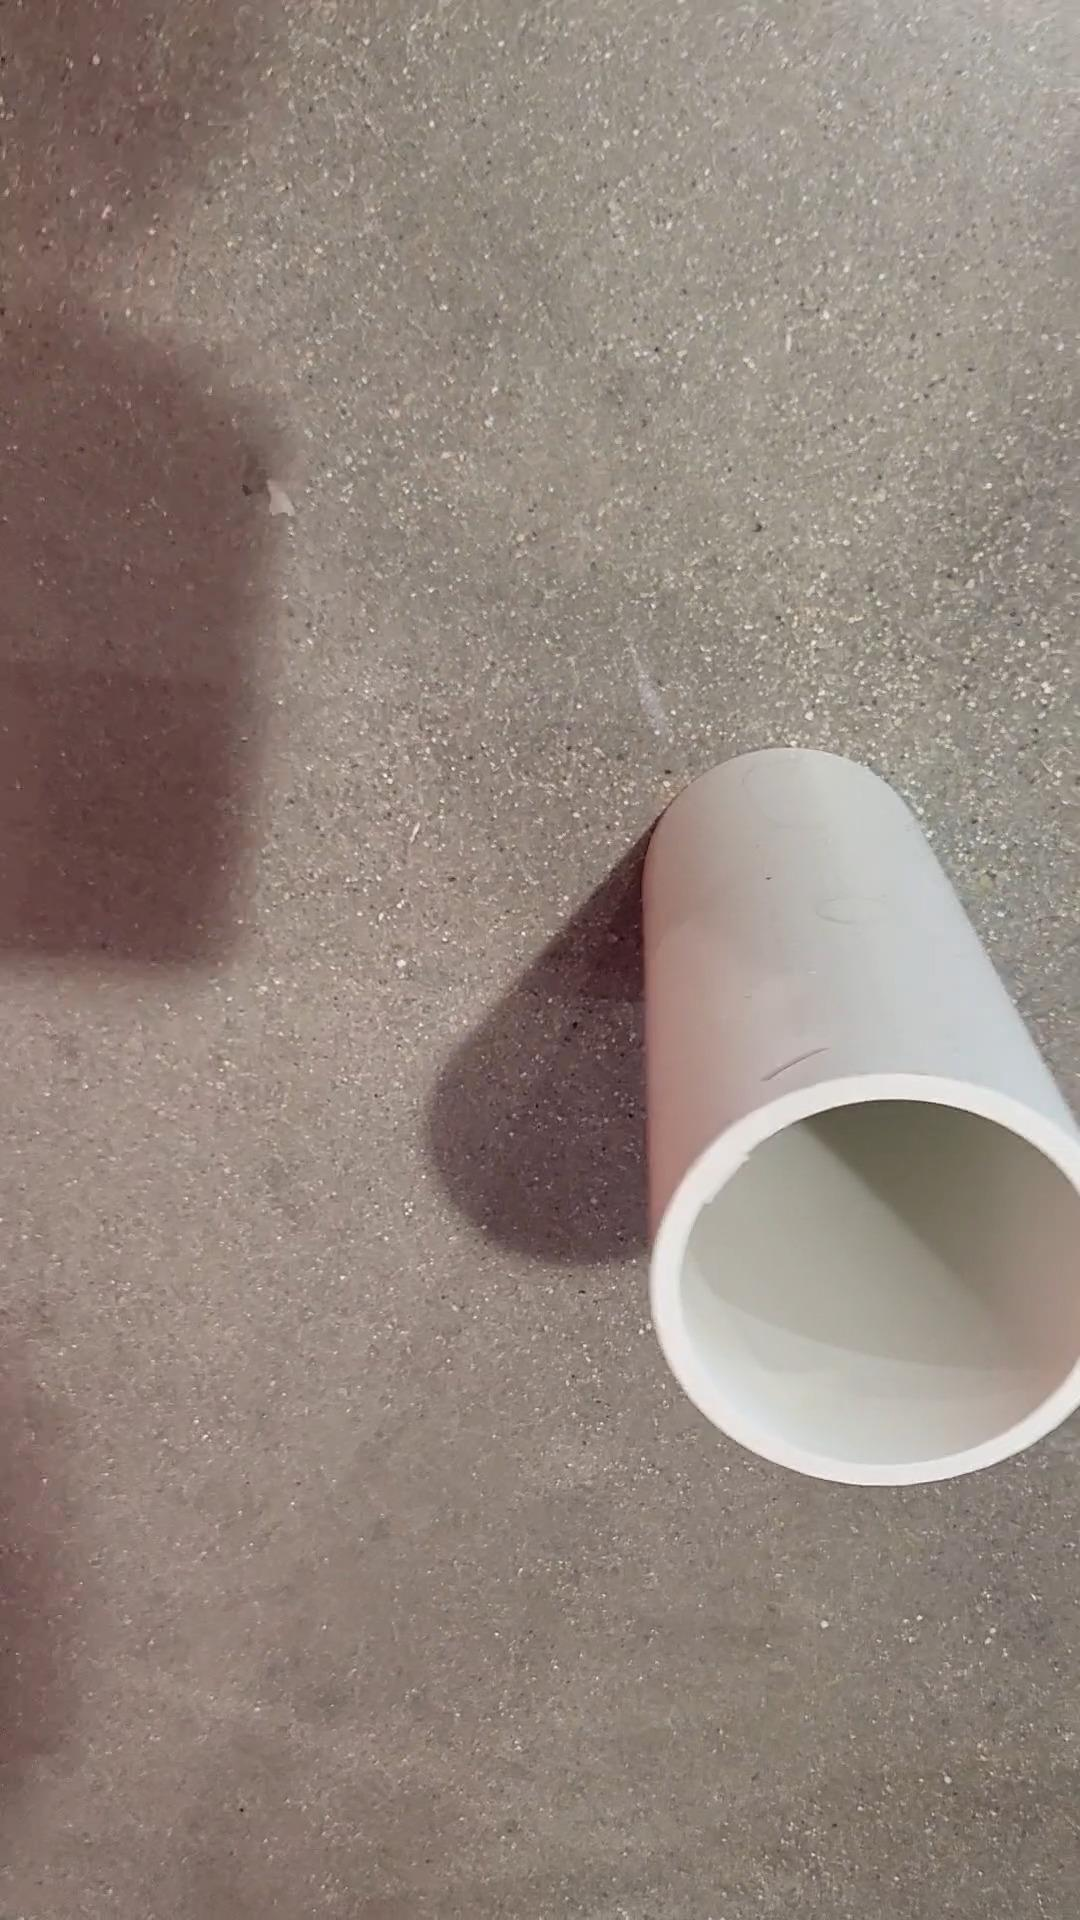coral: (640, 750, 1080, 1497)
